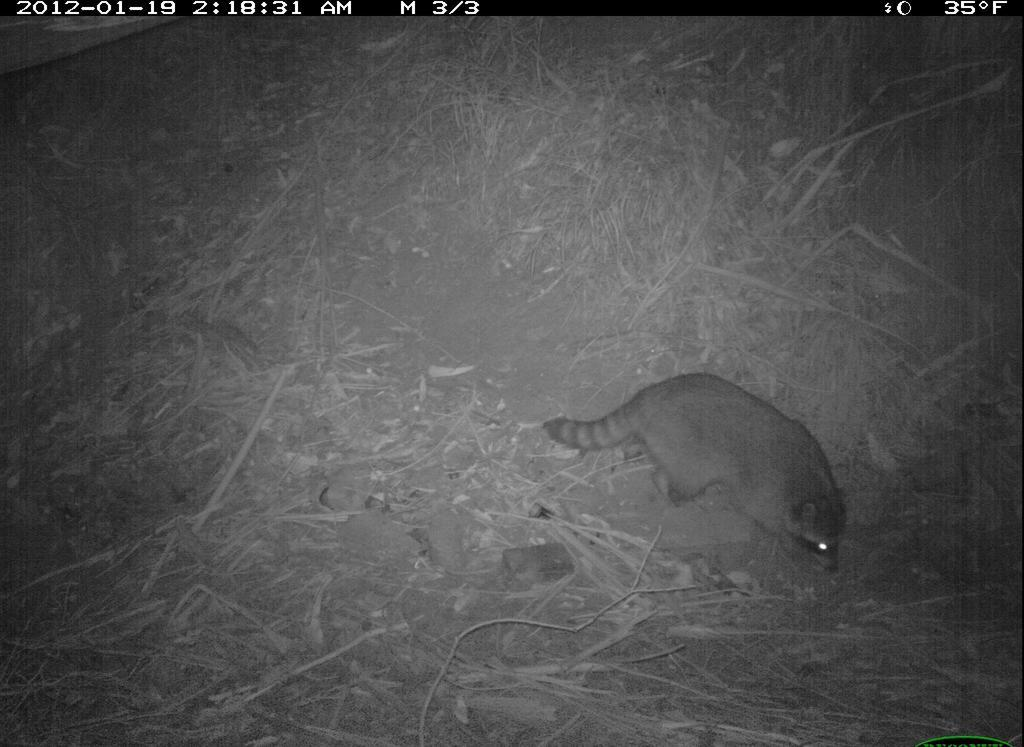raccoon: (539, 369, 852, 579)
